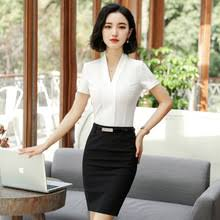F_shirt: (77, 51, 161, 127)
F_tailored skirt: (70, 126, 140, 216)
